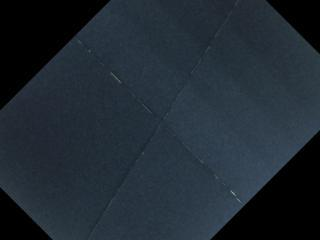crack: (85, 0, 241, 240), (71, 30, 244, 202)
